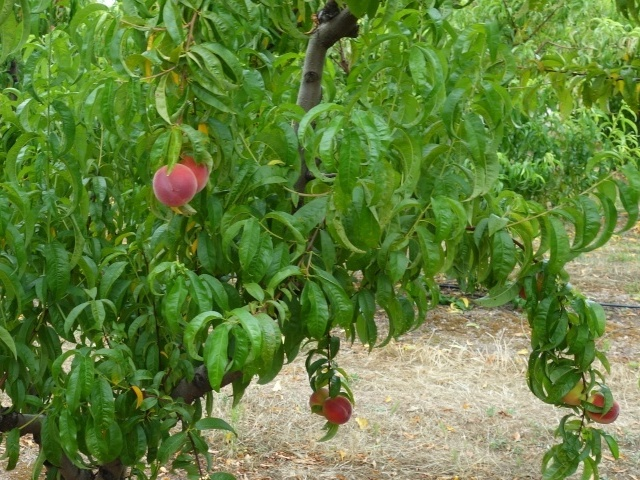peach: (147, 164, 200, 213), (180, 145, 215, 195), (581, 389, 623, 426), (319, 392, 356, 428), (559, 376, 595, 412), (305, 386, 334, 417)
